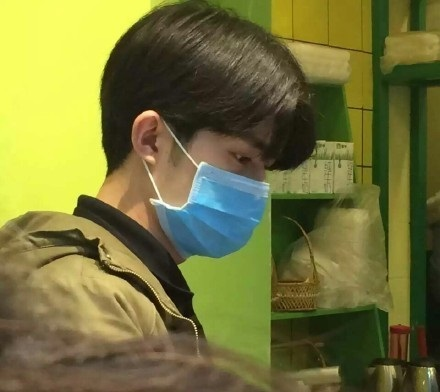face_mask: (164, 104, 275, 259)
